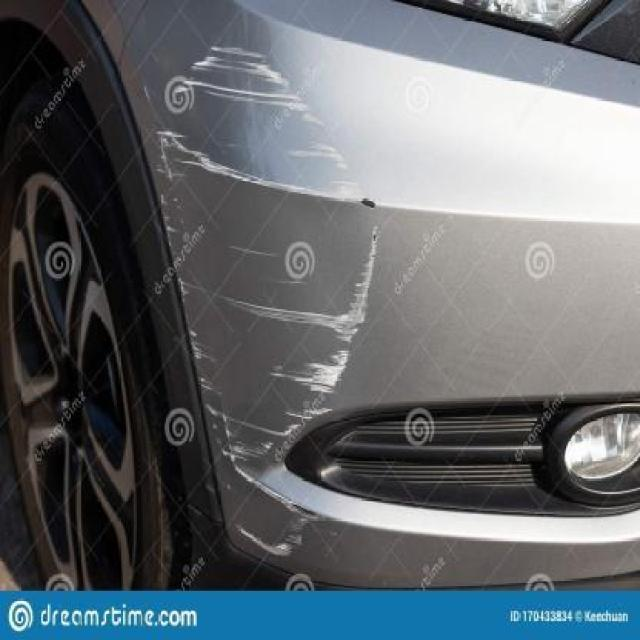scratch: (158, 220, 396, 407), (147, 33, 385, 219), (134, 408, 372, 594)
